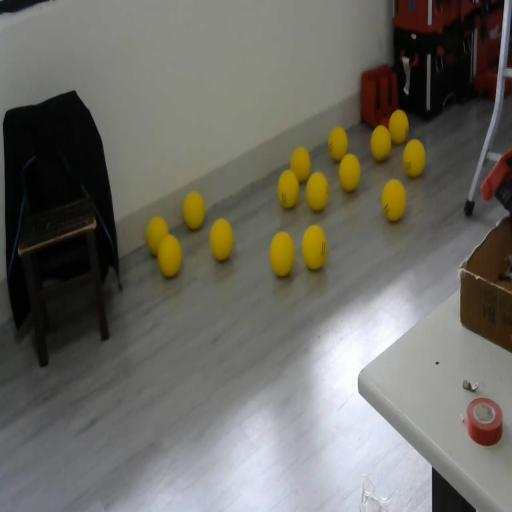FUEL: (268, 230, 296, 279), (301, 223, 327, 271), (208, 217, 234, 262), (156, 233, 182, 278), (381, 179, 406, 222), (305, 170, 329, 212), (277, 168, 300, 210), (338, 153, 362, 193), (183, 190, 206, 230), (402, 139, 426, 177), (370, 124, 392, 163), (290, 146, 311, 182), (388, 108, 409, 144), (328, 126, 348, 161)
